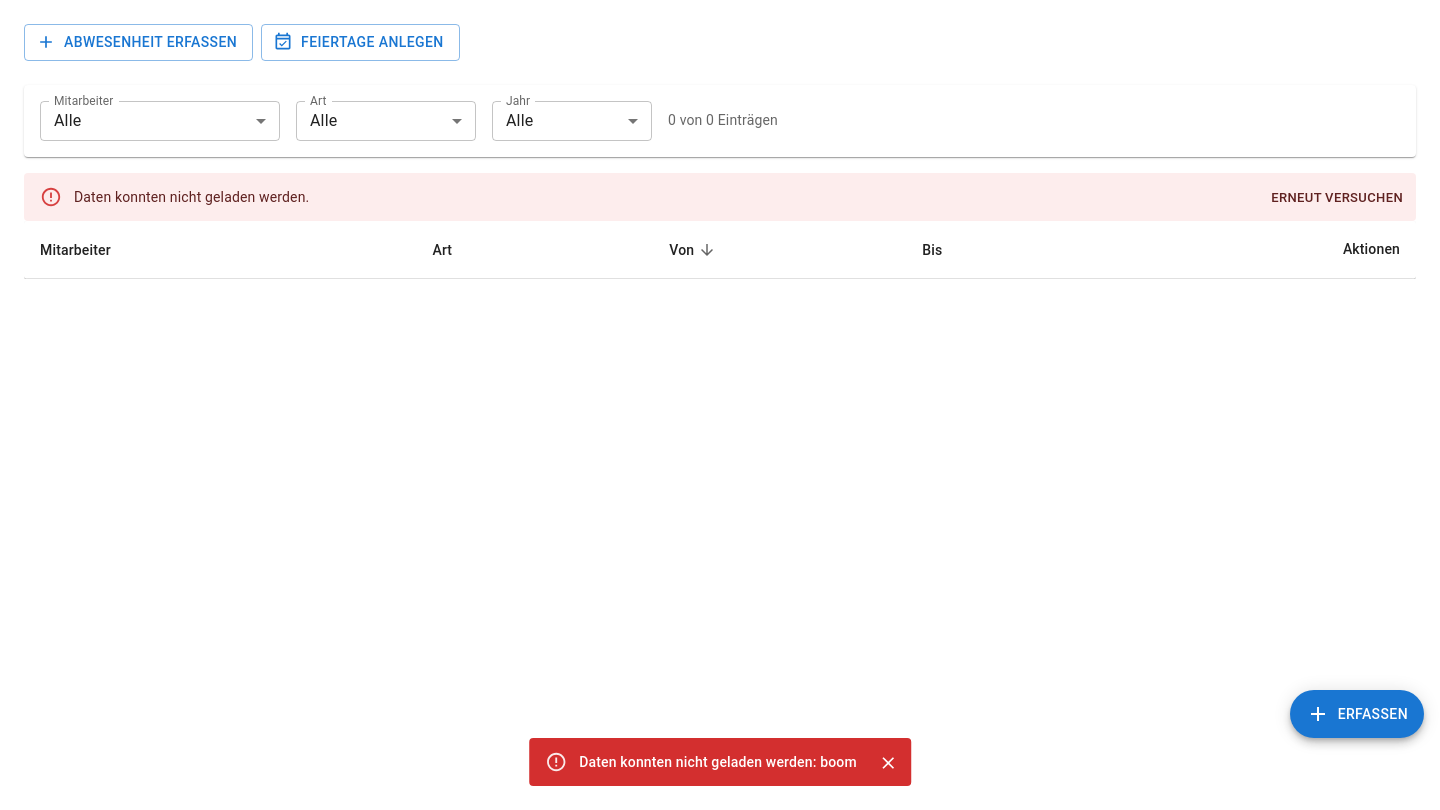
Test: AbsencesView › with a branch selected › shows a load error with a retry instead of the empty message
Expected: the text "Daten konnten nicht geladen werden." is shown, [74, 188, 309, 204]
Expected: the text "Noch keine Abwesenheiten erfasst." is not shown
Click the button "Erneut versuchen" at [1337, 198], box [1266, 182, 1408, 213]
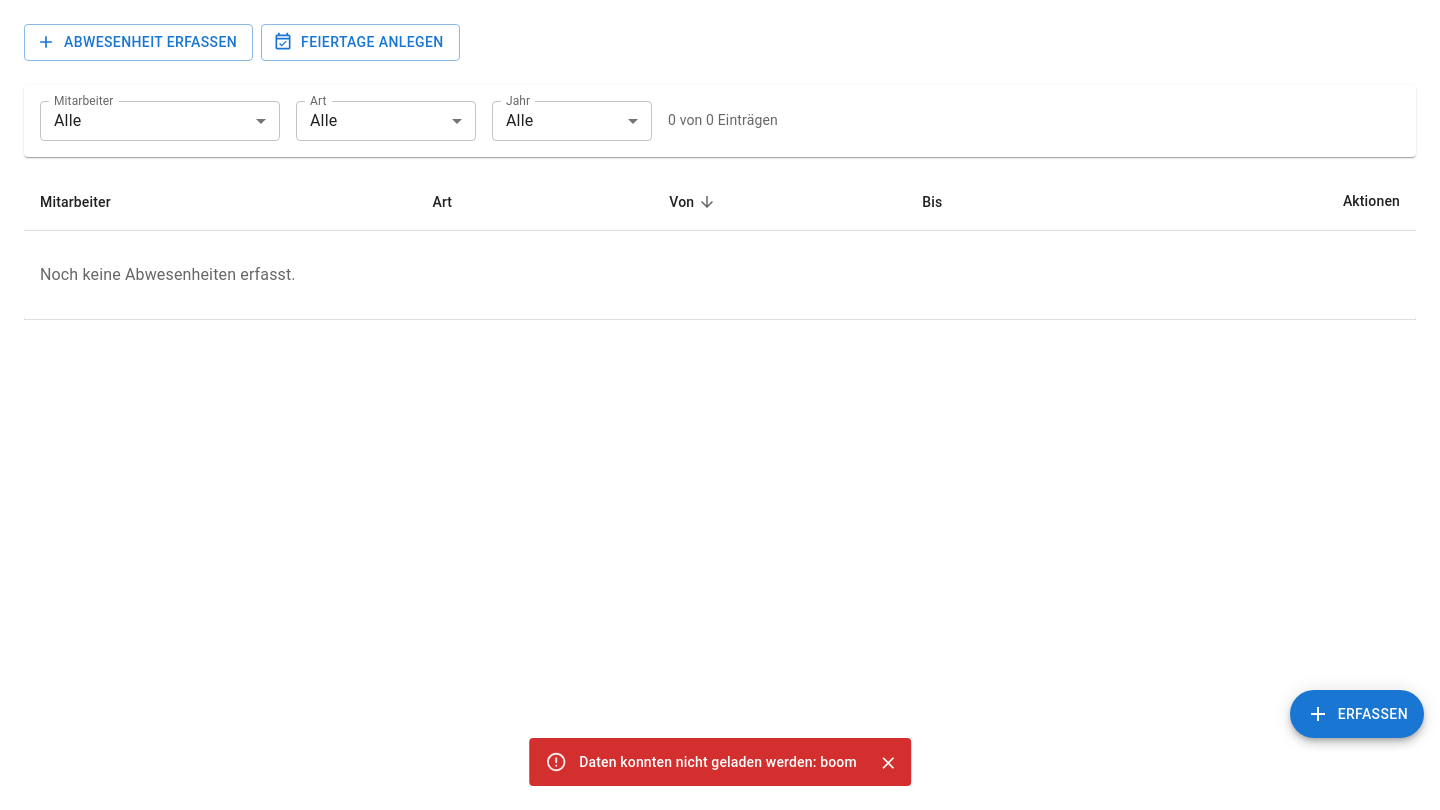
Now the text "Noch keine Abwesenheiten erfasst." is shown, box [40, 265, 296, 284]
